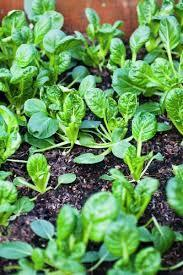Healthy-Pechay: (4, 10, 183, 139), (44, 187, 175, 270)
